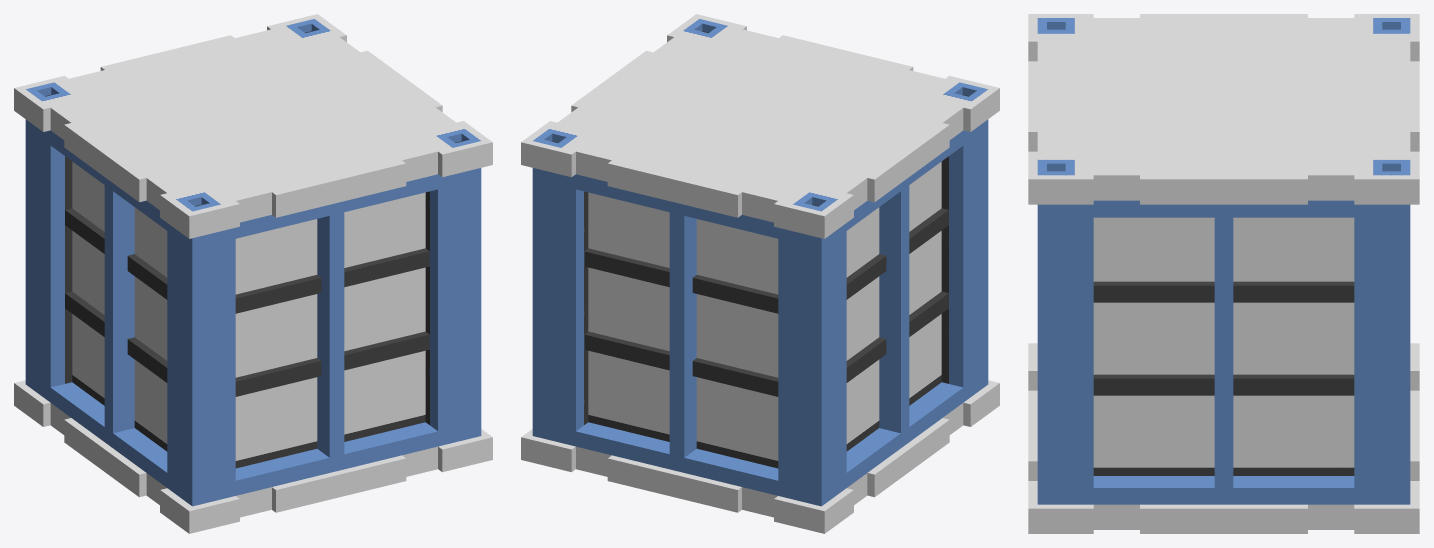
File: Tower_9.fbx
3 views of the same model, side by side, from view 1: azimuth 30°, elevation 25°; view 2: azimuth 150°, elevation 25°; view 3: azimuth 270°, elevation 25° (orthographic). The views are drawn at different scales.
Visible parts, largest first — view 1: Box; view 2: Box; view 3: Box.
Boxes of the visible parts, x1,y1,x2,y2 form: Box: [14, 14, 492, 533]; Box: [521, 14, 999, 533]; Box: [1028, 14, 1419, 533].
Size of the model in its own units: 42 by 42 by 42.
1 material, 1 textured.
